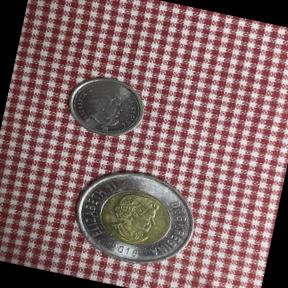Canada-10cent-B: (56, 68, 153, 148)
Canada-2Dollar-B: (60, 153, 210, 278)
